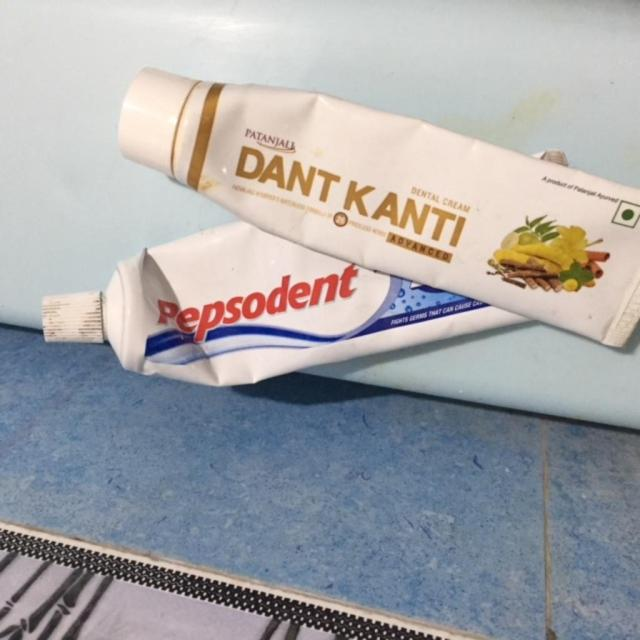Toothpaste: (42, 68, 640, 386)
